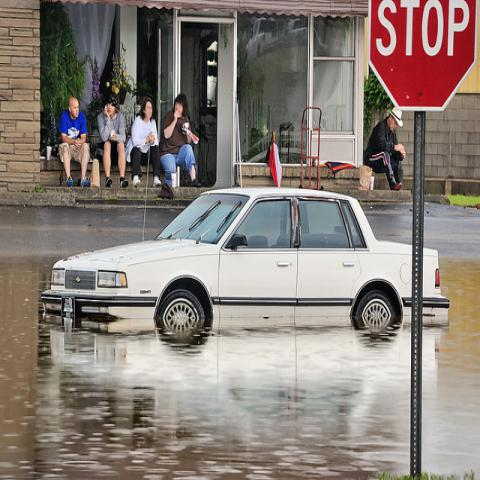car: (39, 182, 448, 325)
